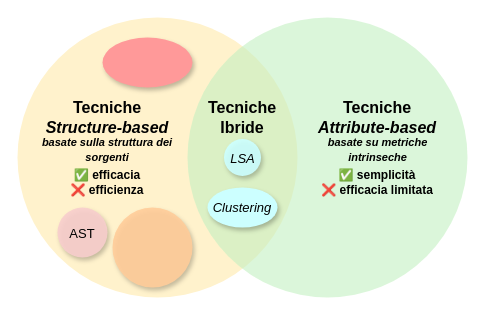
Some shapes in this 484 by 314 pixel diagram are drawn without their labels. Here are the shapes that lost their labels. From the top down, the centre of each, then its label:
At pixel 148 63: "Tokenization".
At pixel 153 248: "Program Dependency Graph".
